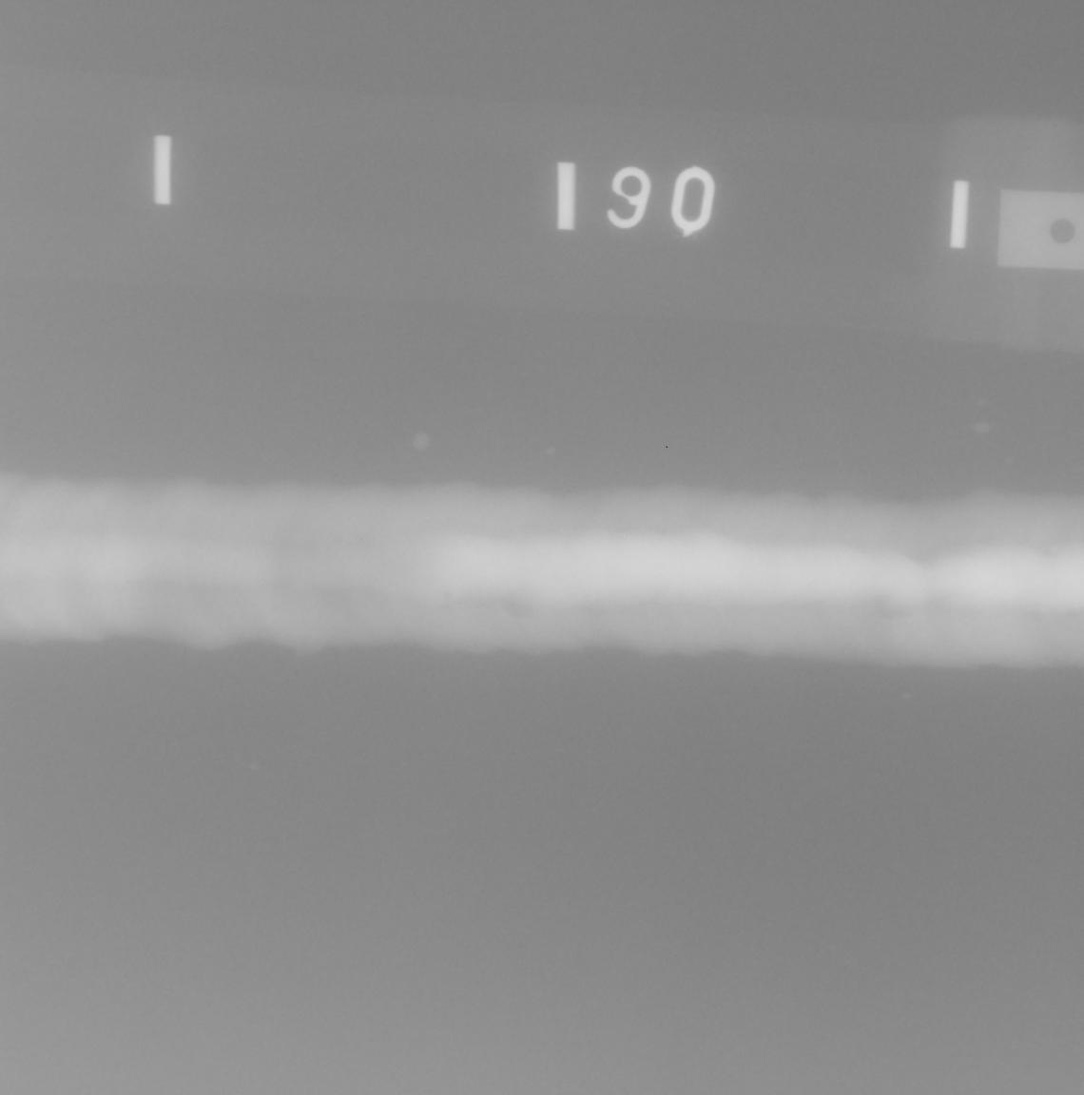Pore/Porosity: (443, 591, 451, 603)
